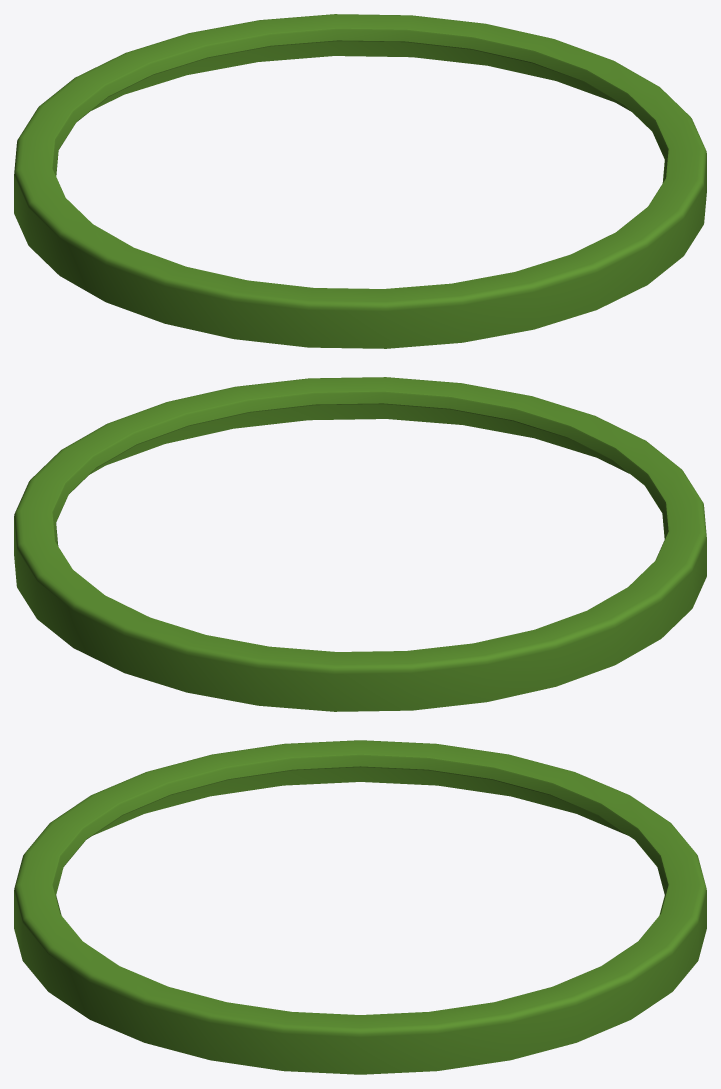
The model's file is Green_Buton_side1.fbx.
3 renders of one model, top to bottom at view 1: azimuth 30°, elevation 25°; view 2: azimuth 150°, elevation 25°; view 3: azimuth 270°, elevation 25°, orthographic.
Parts seen in each view (by area): view 1: Green_Buton_side1; view 2: Green_Buton_side1; view 3: Green_Buton_side1.
Part boxes in pixels (x1,y1,x2,y2): Green_Buton_side1: [14, 14, 706, 348]; Green_Buton_side1: [14, 377, 706, 711]; Green_Buton_side1: [14, 740, 706, 1074].
Size of the model in its own units: 77.57 by 5.42 by 77.57.
